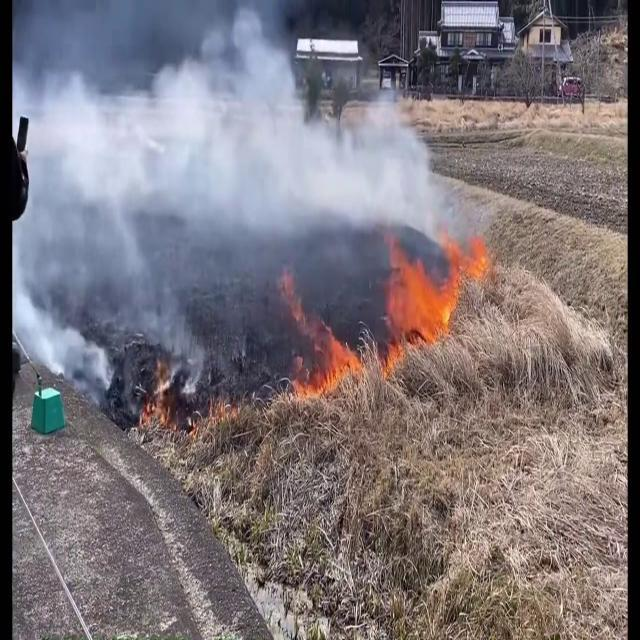Fire: (383, 226, 493, 356), (287, 326, 368, 402)
Smoke: (14, 0, 449, 395)
